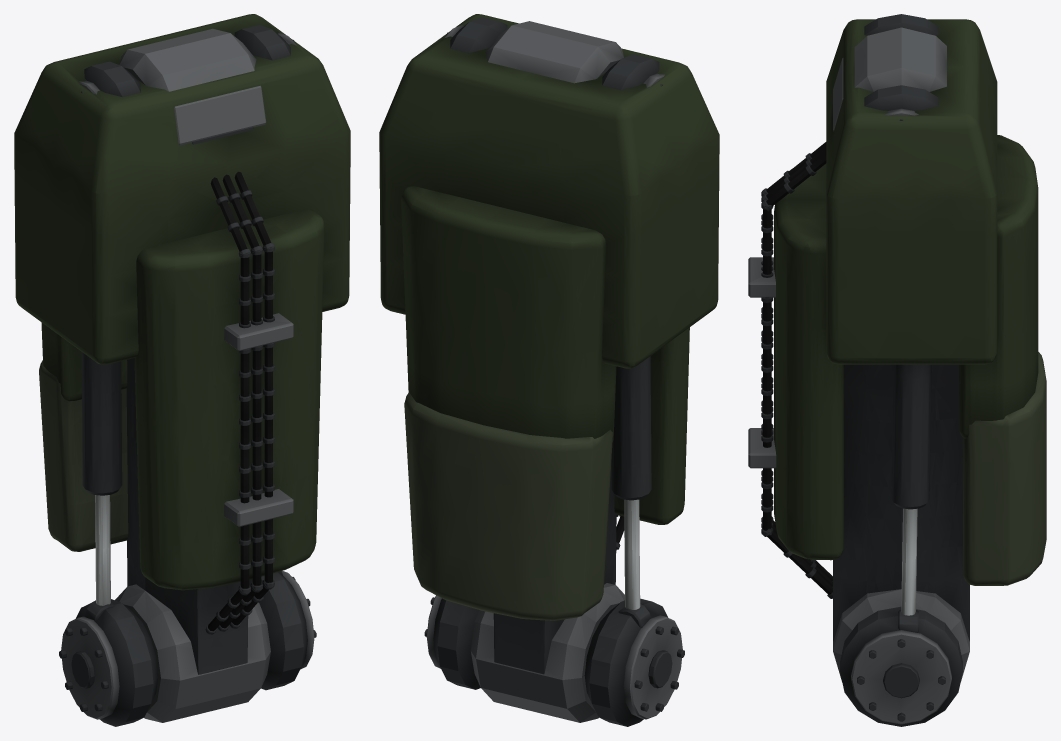
The model's file is frame.leg.glb.
3 views of the same model, side by side, from view 1: azimuth 30°, elevation 25°; view 2: azimuth 150°, elevation 25°; view 3: azimuth 270°, elevation 25° (orthographic). The views are drawn at different scales.
Size of the model in its own units: 2.11 by 5.2 by 2.18.
